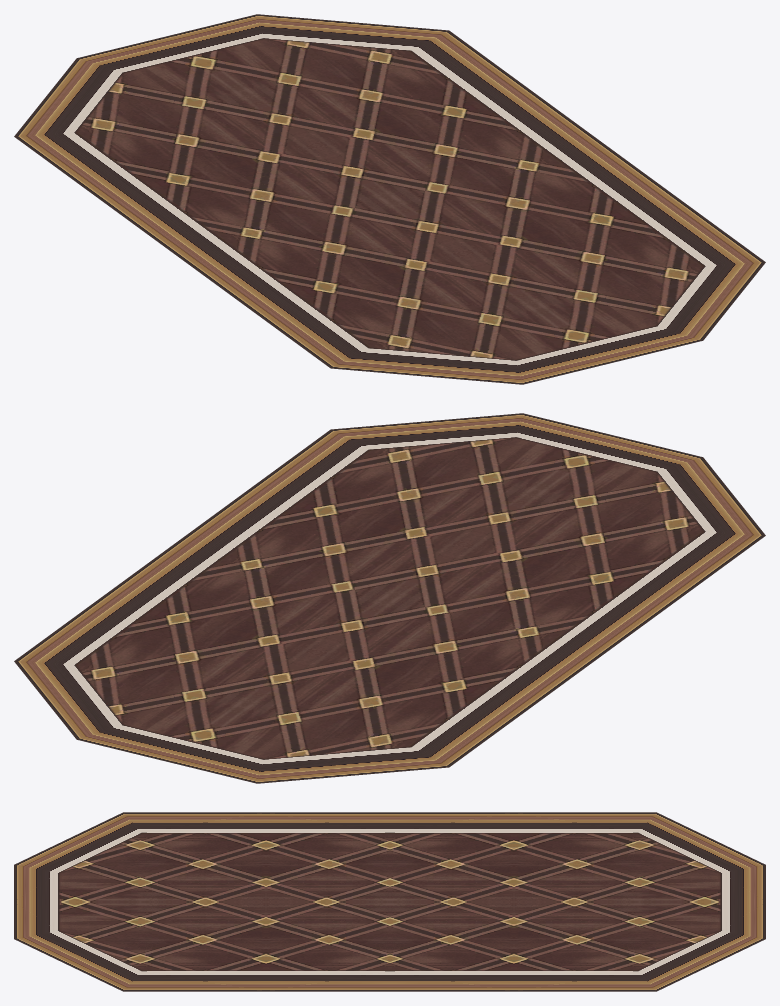
Rendered from my_trinityclassroom_01_carpet_02.glb.
3 renders of one model, top to bottom at view 1: azimuth 30°, elevation 25°; view 2: azimuth 150°, elevation 25°; view 3: azimuth 270°, elevation 25°, orthographic. The views are drawn at different scales.
Parts seen in each view (by area): view 1: my_trinityclassroom_01_carpet_02; view 2: my_trinityclassroom_01_carpet_02; view 3: my_trinityclassroom_01_carpet_02.
Part boxes in pixels (x1,y1,x2,y2): my_trinityclassroom_01_carpet_02: (14, 14, 765, 384); my_trinityclassroom_01_carpet_02: (14, 413, 765, 783); my_trinityclassroom_01_carpet_02: (14, 812, 765, 991).
Bounding box in the file's own units: 0.0162 × 0 × 0.0287.
1 material, 1 textured.
